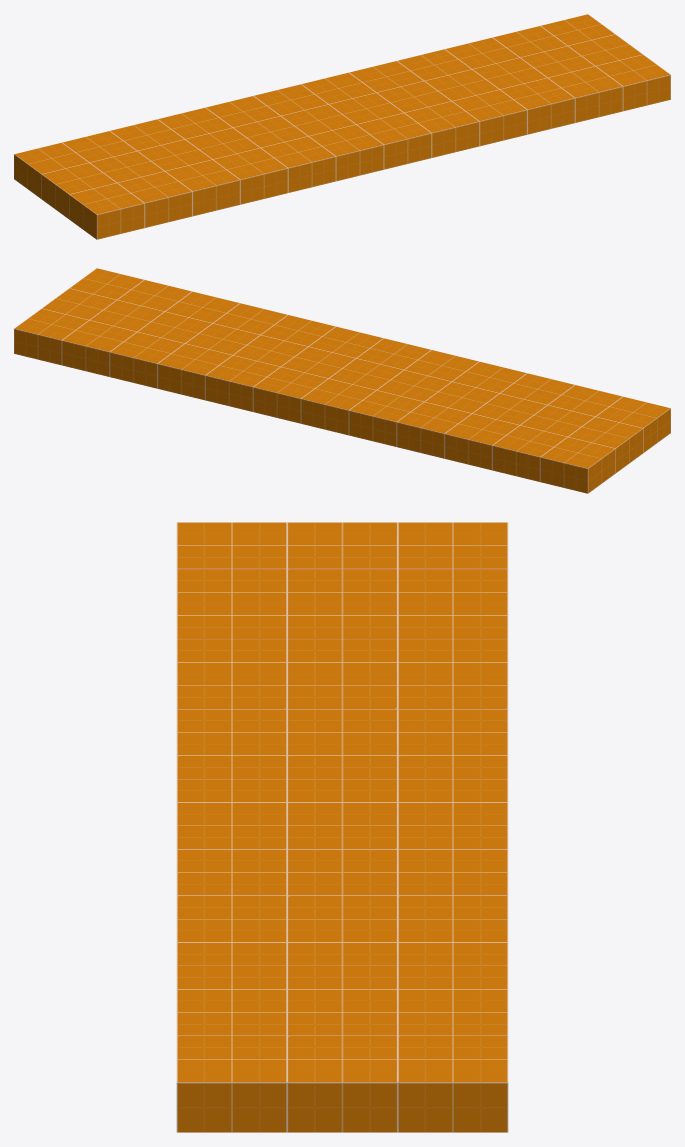
File: Plate2_12x3.obj
3 renders of one model, top to bottom at view 1: azimuth 30°, elevation 25°; view 2: azimuth 150°, elevation 25°; view 3: azimuth 270°, elevation 25°, orthographic. The views are drawn at different scales.
Parts seen in each view (by area): view 1: Plate2_12x3_Cube.310; view 2: Plate2_12x3_Cube.310; view 3: Plate2_12x3_Cube.310.
Part boxes in pixels (box(x1,y1,x2,y2)): Plate2_12x3_Cube.310: box(14, 14, 670, 239); Plate2_12x3_Cube.310: box(14, 268, 670, 493); Plate2_12x3_Cube.310: box(176, 522, 508, 1132).
Bounding box in the file's own units: 12 × 0.5 × 3.
Materials: 1 (1 with a texture image).
